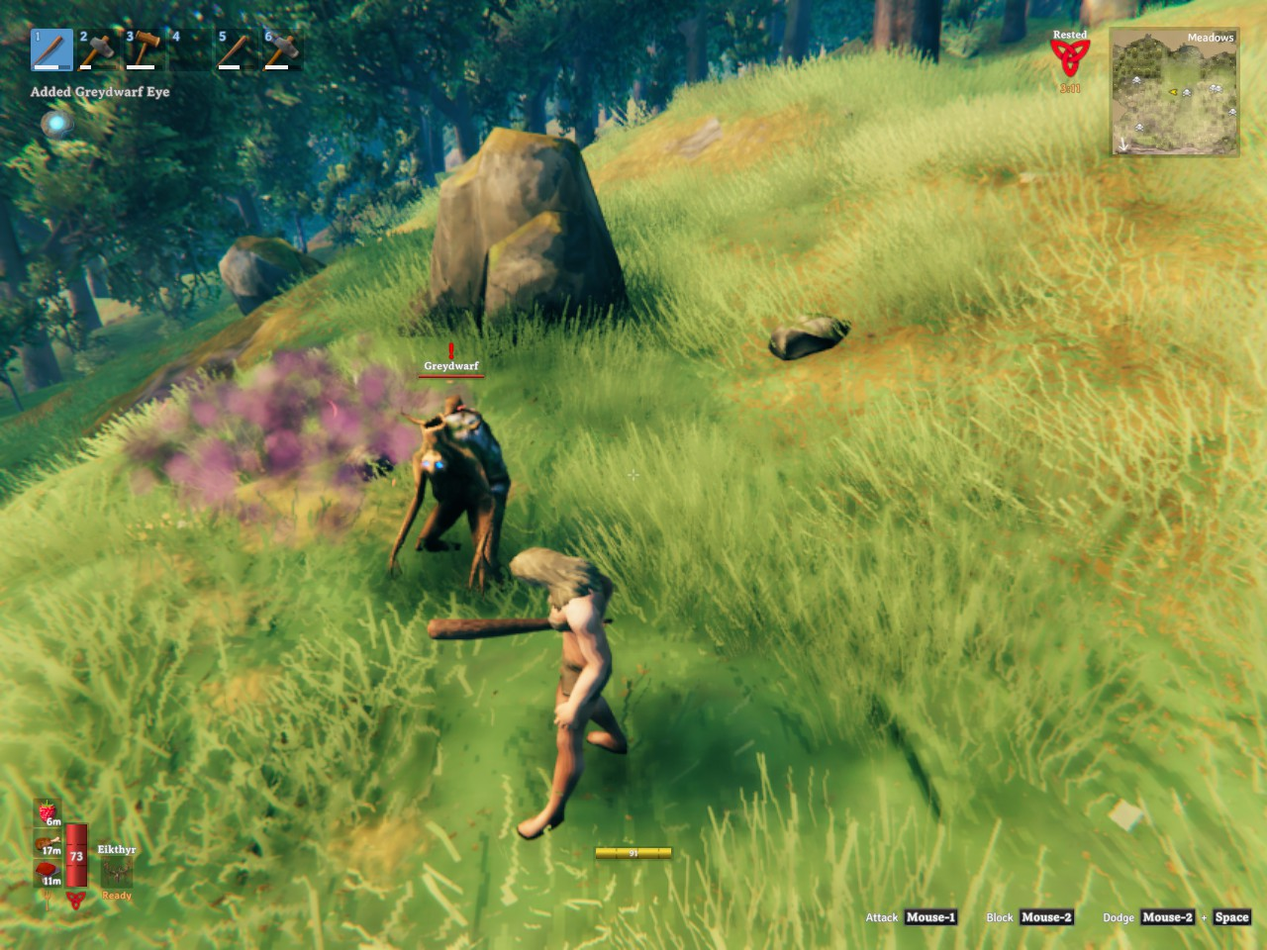Food Indicator: (36, 797, 63, 891)
Greydwarf: (389, 396, 510, 589)
Health Bar: (63, 820, 90, 891)
Hotbar: (25, 21, 398, 78)
Stamina Bar: (589, 842, 676, 863)
Status Indicator: (1039, 25, 1106, 101)
